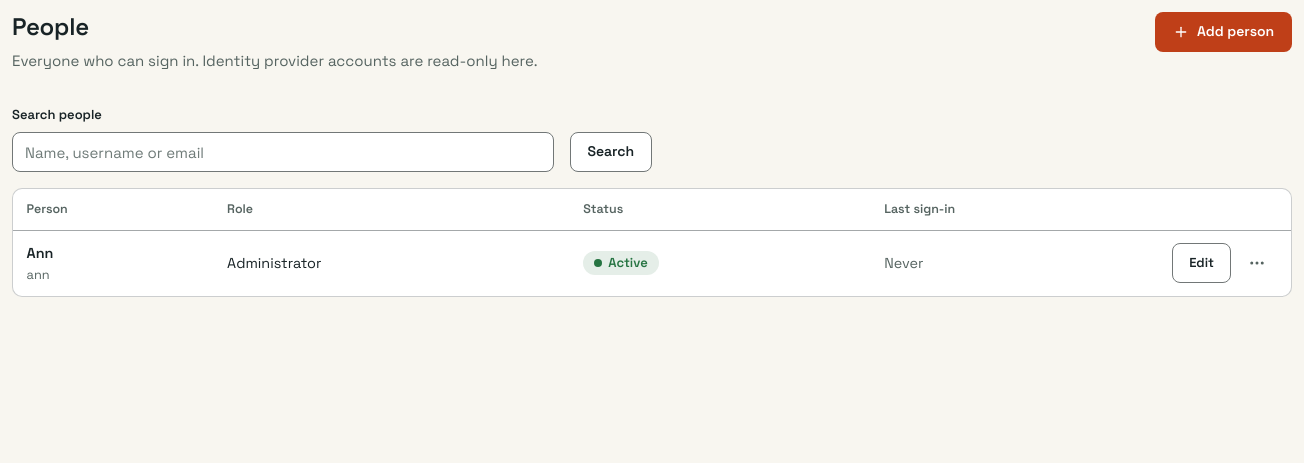
Scenario: People › explains why the last local admin cannot be disabled
Click the button named "More actions for ann".
click(1257, 264)  # box [1237,244,1277,284]
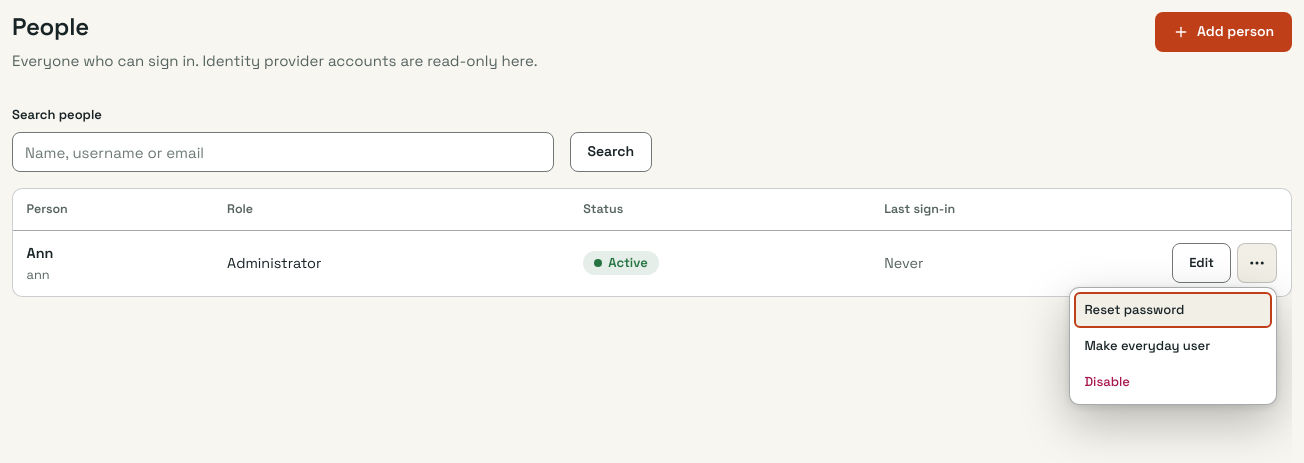
Click the menu item with aria-label "Disable ann".
click(1173, 382)  # box [1074,364,1272,400]
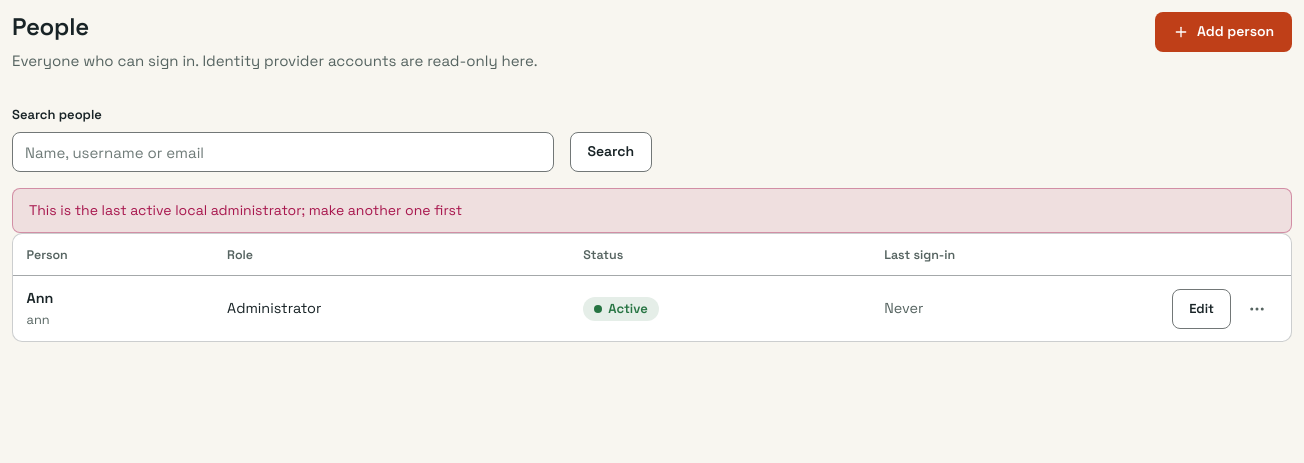
expect the message shows "last active local administrator": met, box [29,201,462,219]
